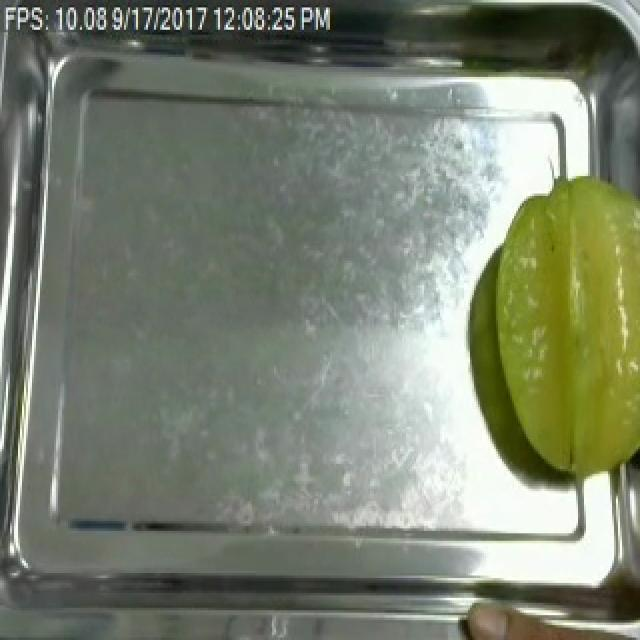fruit: (480, 168, 640, 494)
